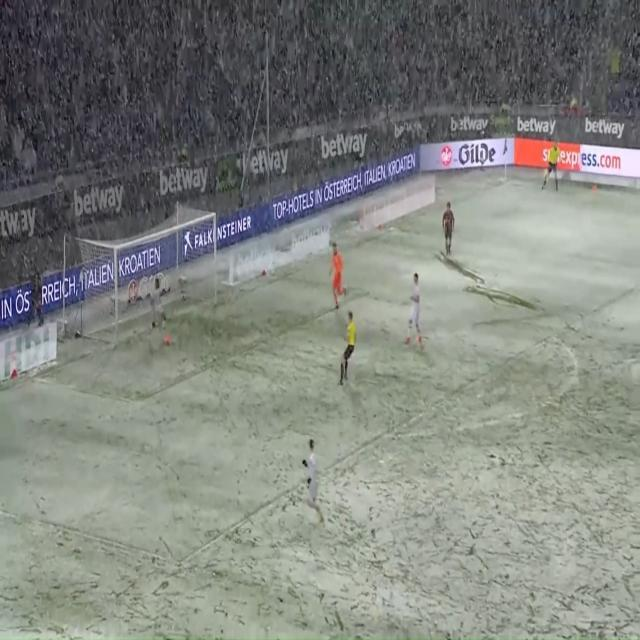ball: (162, 334, 171, 348)
goalkeeper: (325, 238, 349, 311)
player: (294, 433, 329, 529), (402, 269, 425, 350), (439, 192, 457, 258), (149, 273, 169, 331)
referee: (335, 305, 357, 387), (540, 138, 561, 195)
